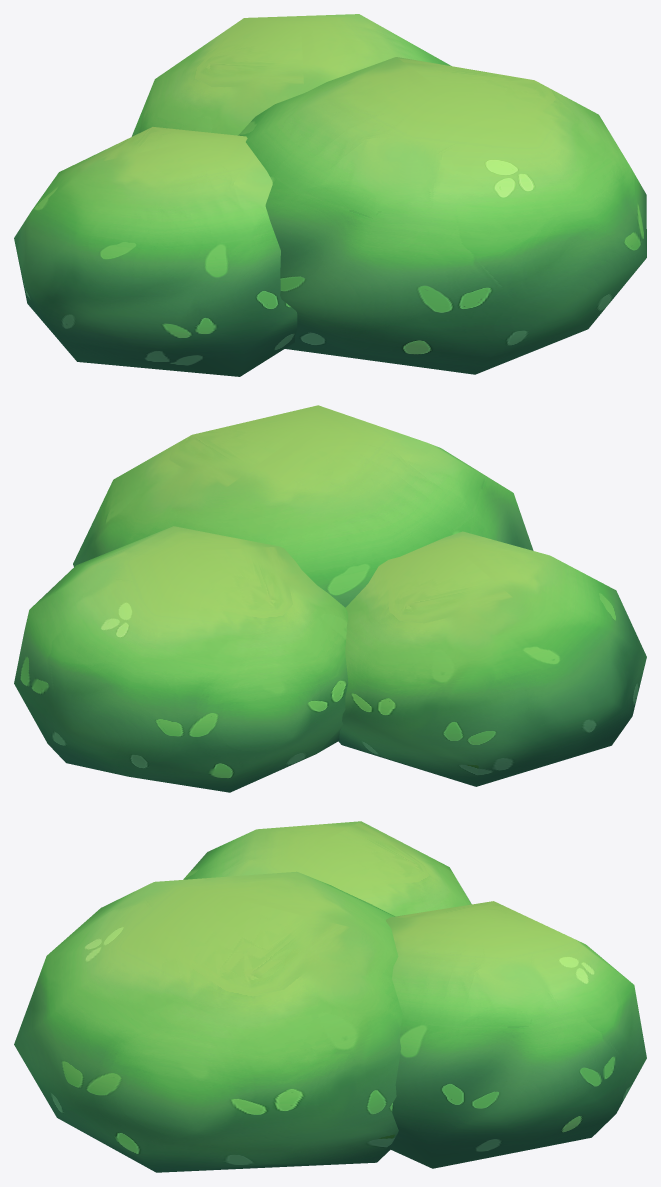
File: bush_2.gltf
3 renders of one model, top to bottom at view 1: azimuth 30°, elevation 25°; view 2: azimuth 150°, elevation 25°; view 3: azimuth 270°, elevation 25°, orthographic.
Visible parts, largest first — view 1: Bush2Mesh; view 2: Bush2Mesh; view 3: Bush2Mesh.
Boxes of the visible parts, x1,y1,x2,y2 form: Bush2Mesh: (14,14,646,376); Bush2Mesh: (14,405,646,792); Bush2Mesh: (14,821,646,1172).
Size of the model in its own units: 1.26 by 0.4663 by 1.27.
1 material, 1 textured.
